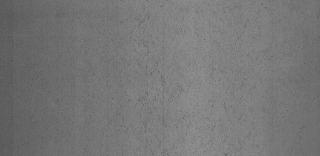silk spot: (186, 7, 314, 153), (120, 5, 182, 148)
